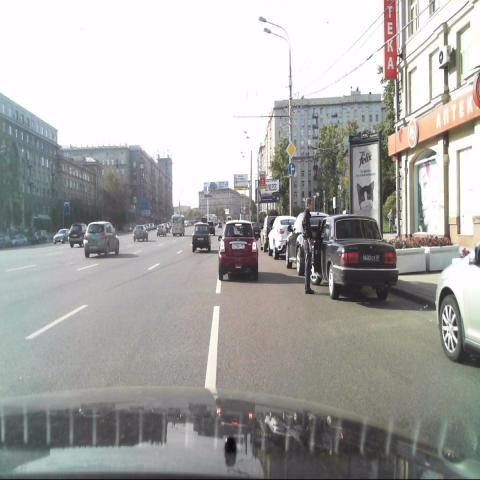2_1: (286, 141, 296, 160)
4_1_4: (288, 162, 296, 176)
